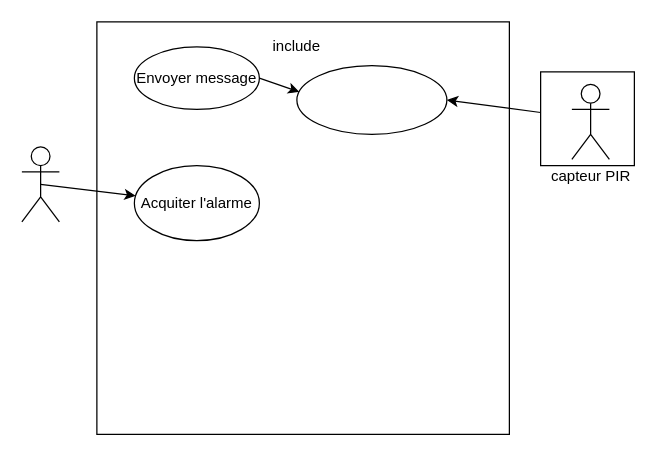
Some shapes in this 656 by 456 pixel diagram are drawn without their labels. Each missing label, with the box of its shape:
Actor: (21, 146, 59, 222)
Detecter une présence: (296, 64, 447, 134)
